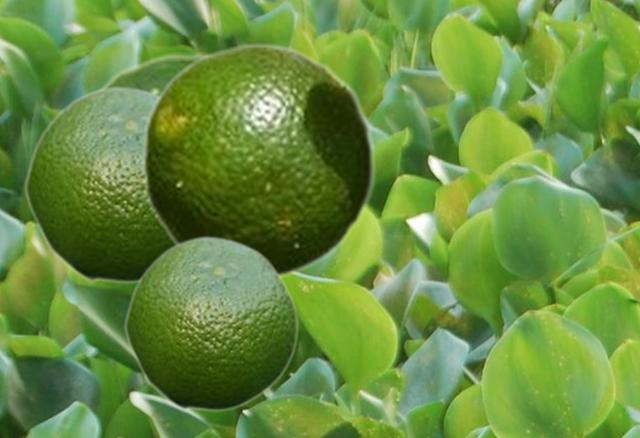calamansi: (140, 42, 376, 279), (123, 234, 298, 411), (23, 84, 171, 283), (96, 52, 206, 92)
